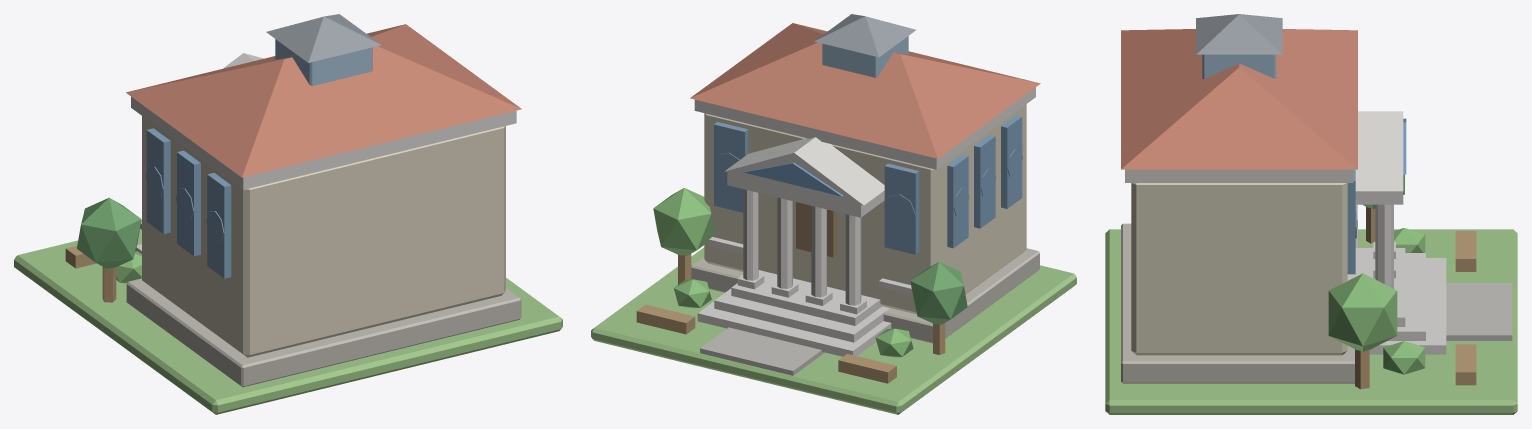
File: publicos__biblioteca.glb
3 renders of one model, left to right at view 1: azimuth 30°, elevation 25°; view 2: azimuth 150°, elevation 25°; view 3: azimuth 270°, elevation 25°, orthographic. The views are drawn at different scales.
Visible parts, largest first — view 1: publicos__biblioteca; view 2: publicos__biblioteca; view 3: publicos__biblioteca.
Part boxes in pixels (box(x1,y1,x2,y2)): publicos__biblioteca: box(14, 14, 562, 414); publicos__biblioteca: box(591, 14, 1076, 414); publicos__biblioteca: box(1105, 14, 1517, 414).
Size of the model in its own units: 2.01 by 1.69 by 2.
